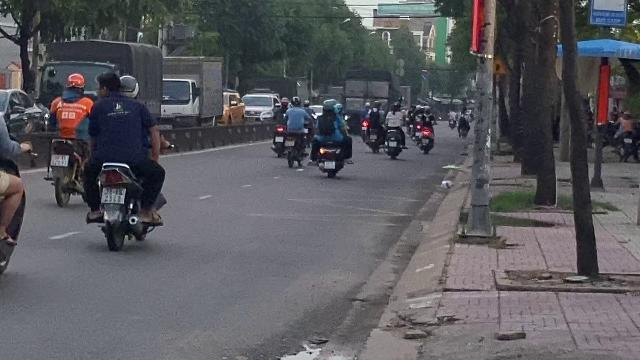helmet: (63, 72, 85, 94), (118, 74, 138, 98)
licenseplate: (102, 188, 126, 204), (52, 154, 68, 166)
motorcyclist: (80, 71, 168, 251), (44, 71, 92, 205)
nohelmet: (97, 70, 121, 94)
